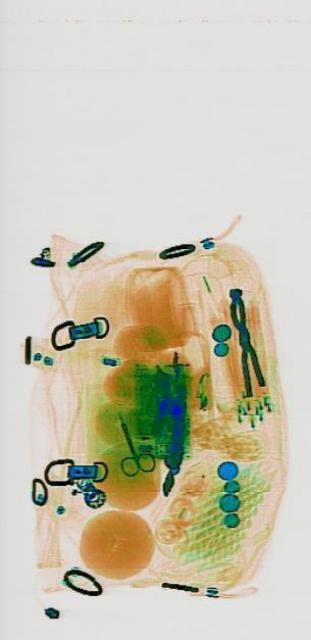Scissors: (108, 402, 156, 496)
